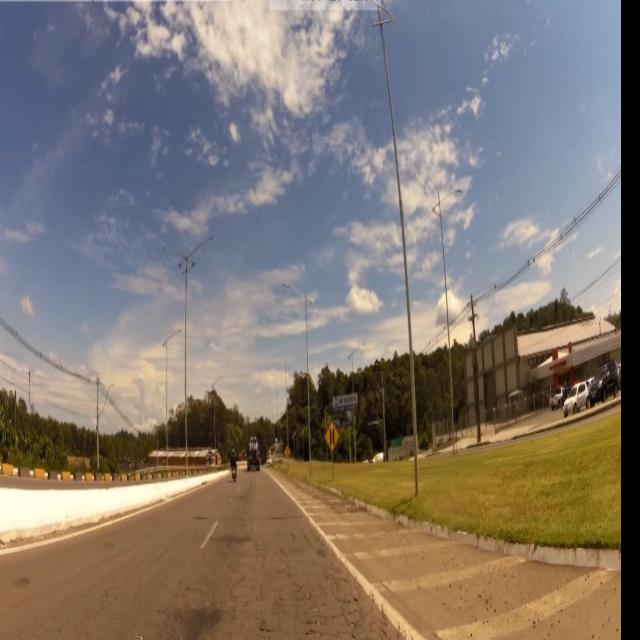A-22: (325, 424, 339, 455)
